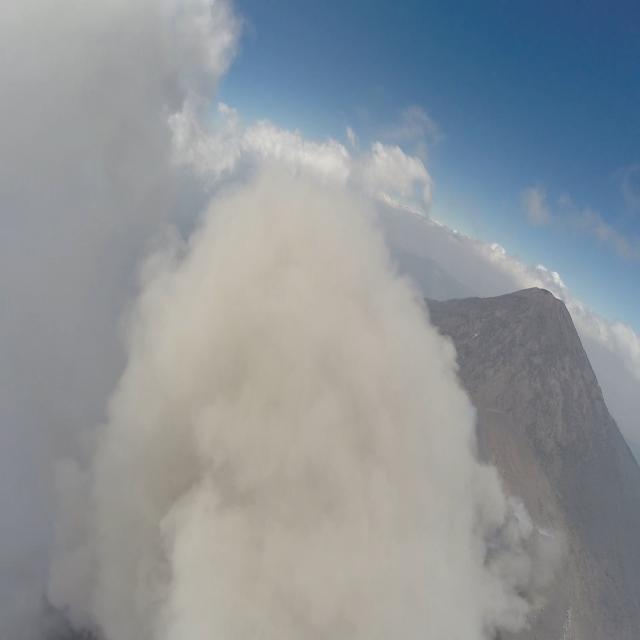Plume: (95, 170, 538, 640)
